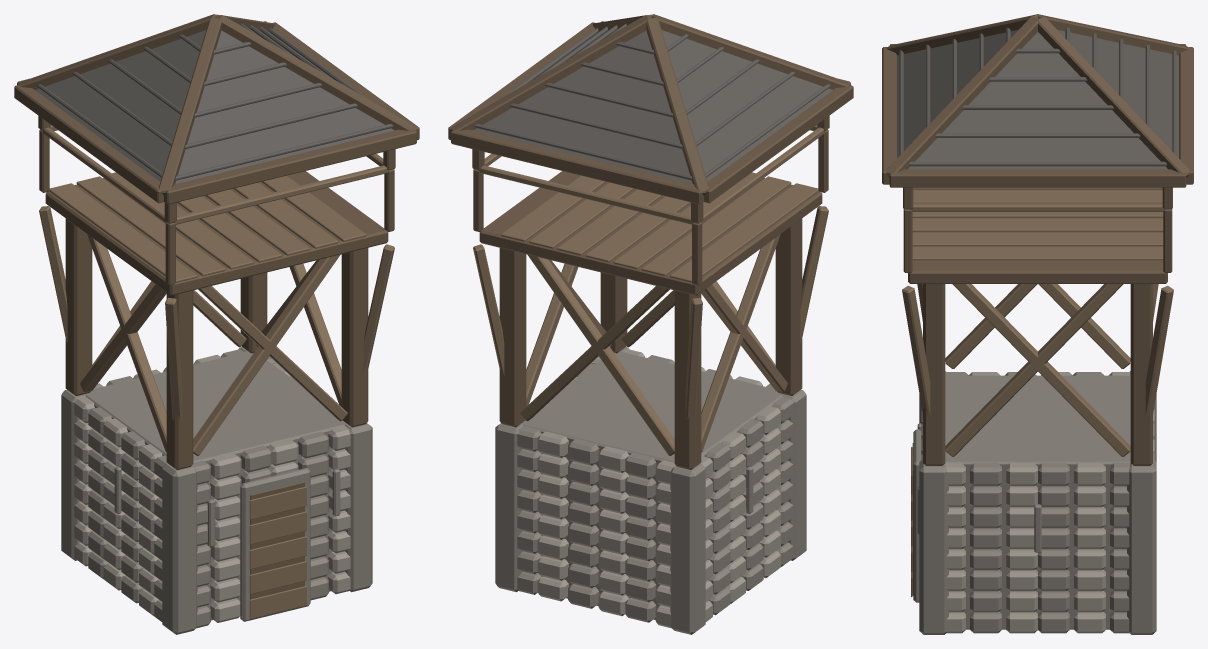
Rendered from watchtower.glb.
3 renders of one model, left to right at view 1: azimuth 30°, elevation 25°; view 2: azimuth 150°, elevation 25°; view 3: azimuth 270°, elevation 25°, orthographic. The views are drawn at different scales.
Visible parts, largest first — view 1: doorplank, post, base_core, roof, stone.001, DoorFrame, Door; view 2: base_core, post, doorplank, roof, stone.001; view 3: base_core, post, doorplank, roof, stone.001, DoorFrame.
Part boxes in pixels (x1=…): doorplank: x1=39, y1=125, x2=394, y2=619; post: x1=14, y1=14, x2=419, y2=469; base_core: x1=61, y1=347, x2=372, y2=634; roof: x1=35, y1=23, x2=394, y2=183; stone.001: x1=74, y1=354, x2=350, y2=622; DoorFrame: x1=240, y1=468, x2=310, y2=621; Door: x1=250, y1=481, x2=304, y2=599; base_core: x1=495, y1=347, x2=806, y2=634; post: x1=448, y1=14, x2=853, y2=469; doorplank: x1=473, y1=125, x2=828, y2=455; roof: x1=473, y1=23, x2=832, y2=183; stone.001: x1=537, y1=349, x2=780, y2=628; base_core: x1=917, y1=371, x2=1156, y2=634; post: x1=882, y1=14, x2=1193, y2=465; doorplank: x1=902, y1=187, x2=1173, y2=596; roof: x1=897, y1=27, x2=1178, y2=169; stone.001: x1=921, y1=372, x2=1154, y2=633; DoorFrame: x1=913, y1=429, x2=921, y2=602.
Bounding box in the file's own units: 4.2 × 8.47 × 4.2.
